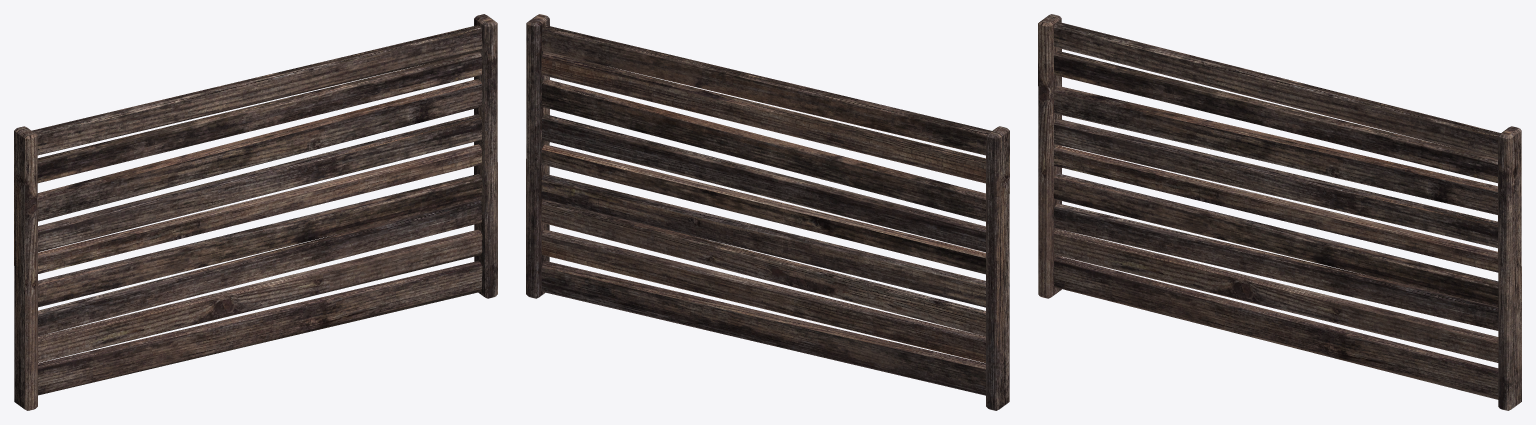
Rendered from SM_Separator.fbx.
3 renders of one model, left to right at view 1: azimuth 30°, elevation 25°; view 2: azimuth 150°, elevation 25°; view 3: azimuth 330°, elevation 25°, orthographic.
Visible parts, largest first — view 1: SM_Separator; view 2: SM_Separator; view 3: SM_Separator.
Part boxes in pixels (x1,y1,x2,y2): SM_Separator: (14,14,497,410); SM_Separator: (526,14,1009,410); SM_Separator: (1038,14,1521,410).
Bounding box in the file's own units: 450 × 250 × 22.5.
